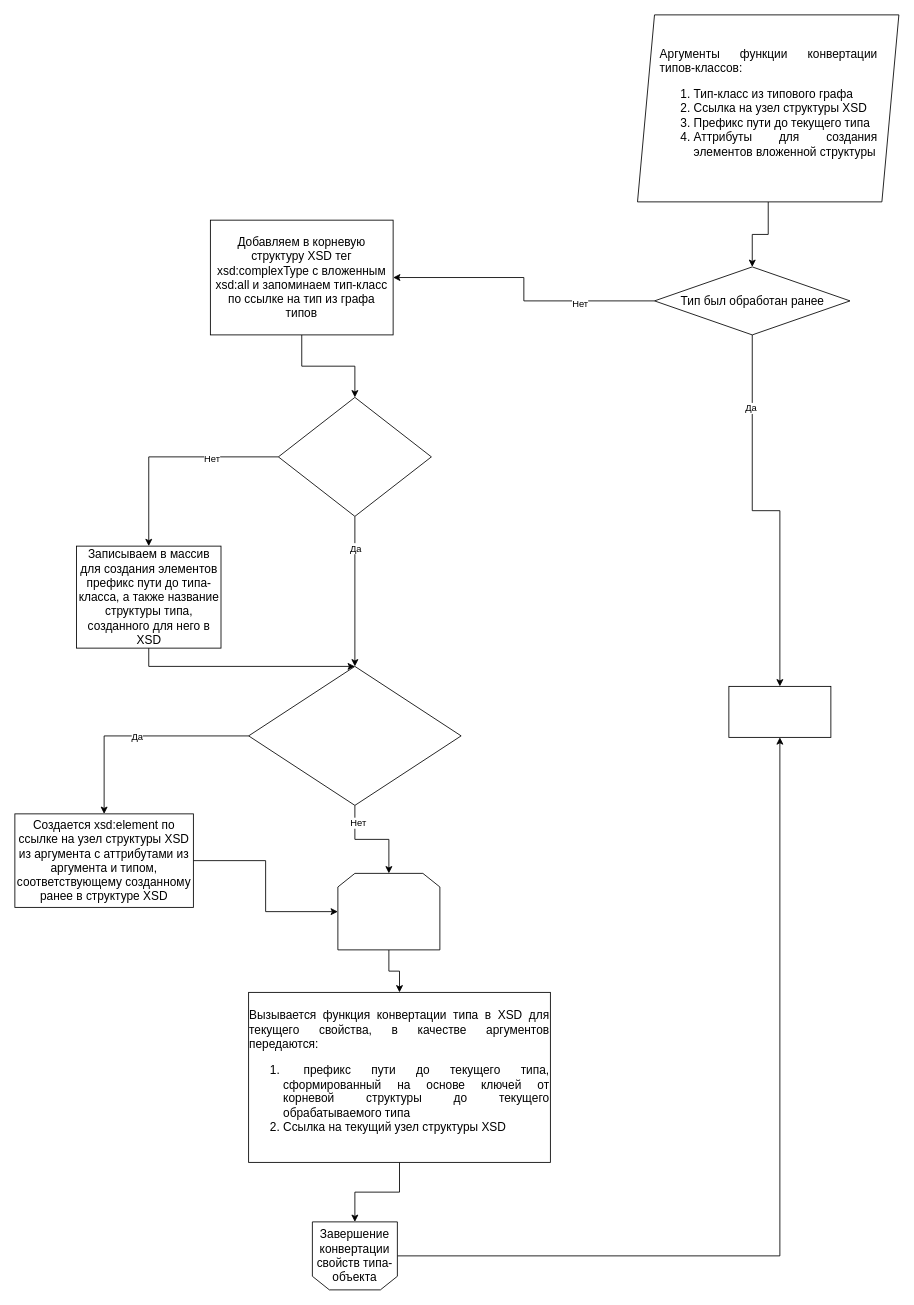
This 914x1305 diagram has some shape labels left out. Each missing label, with the centre of its shape:
"Завершение обработки типа-класса" belongs at point 779,711.
"Итерация по каждому из свойств типа-класса" belongs at point 388,911.
"обрабатываемый тип находится внутри массива?" belongs at point 354,456.
"ссылка на узел структуры XSD из аргументов функцииотличается от корневого?" belongs at point 354,735.
